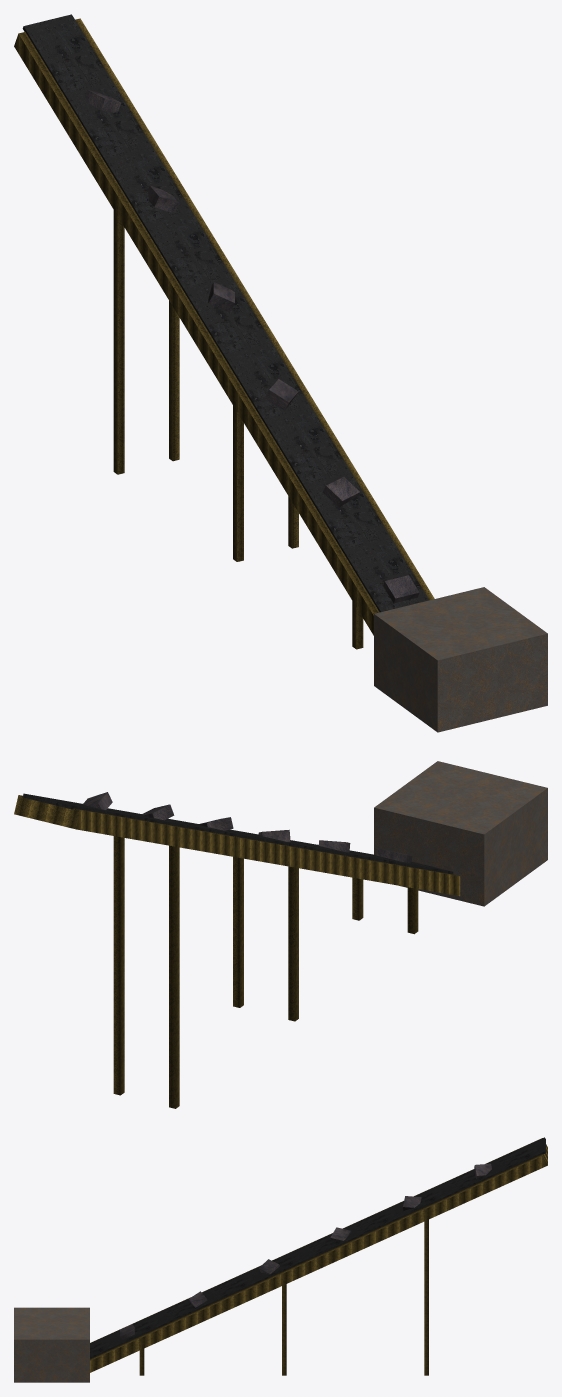
Rendered from conveyor.glb.
3 views of the same model, one above another, from view 1: azimuth 30°, elevation 25°; view 2: azimuth 150°, elevation 25°; view 3: azimuth 270°, elevation 25° (orthographic). The views are drawn at different scales.
Visible parts, largest first — view 1: conveyor; view 2: conveyor; view 3: conveyor.
Part boxes in pixels (x1=…): conveyor: x1=14, y1=14, x2=547, y2=732; conveyor: x1=14, y1=761, x2=547, y2=1108; conveyor: x1=14, y1=1137, x2=547, y2=1382.
Bounding box in the file's own units: 1.6 × 5.28 × 11.26.
Materials: 4 (4 with a texture image).
